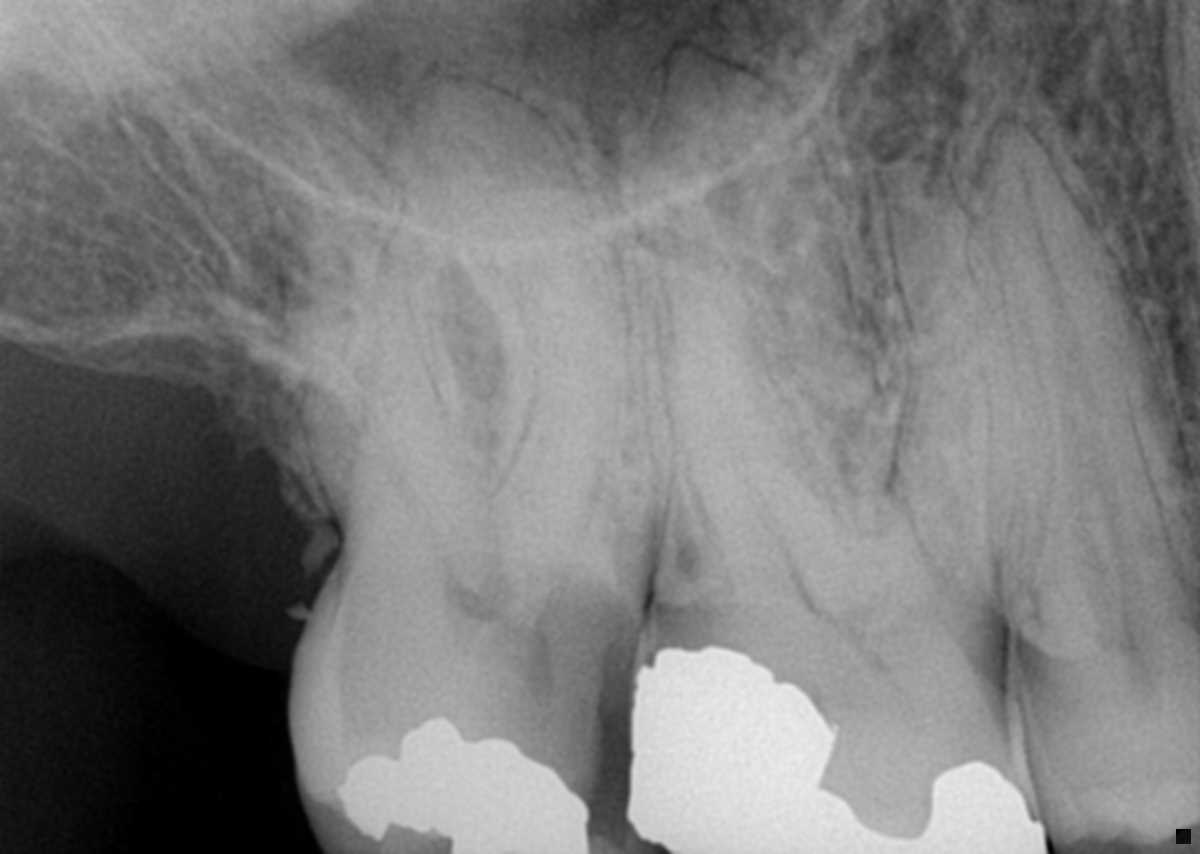Distal Canal: (700, 306, 794, 558)
Distal Root: (260, 111, 626, 540), (653, 199, 829, 567), (343, 131, 493, 520)
Main Canal: (1019, 160, 1131, 578)
Main Root: (967, 114, 1200, 598)
Mesial Root: (401, 75, 647, 507), (884, 157, 1040, 579)
Palatal Root: (642, 40, 952, 609)
decay: (511, 569, 633, 791), (636, 581, 726, 670)
